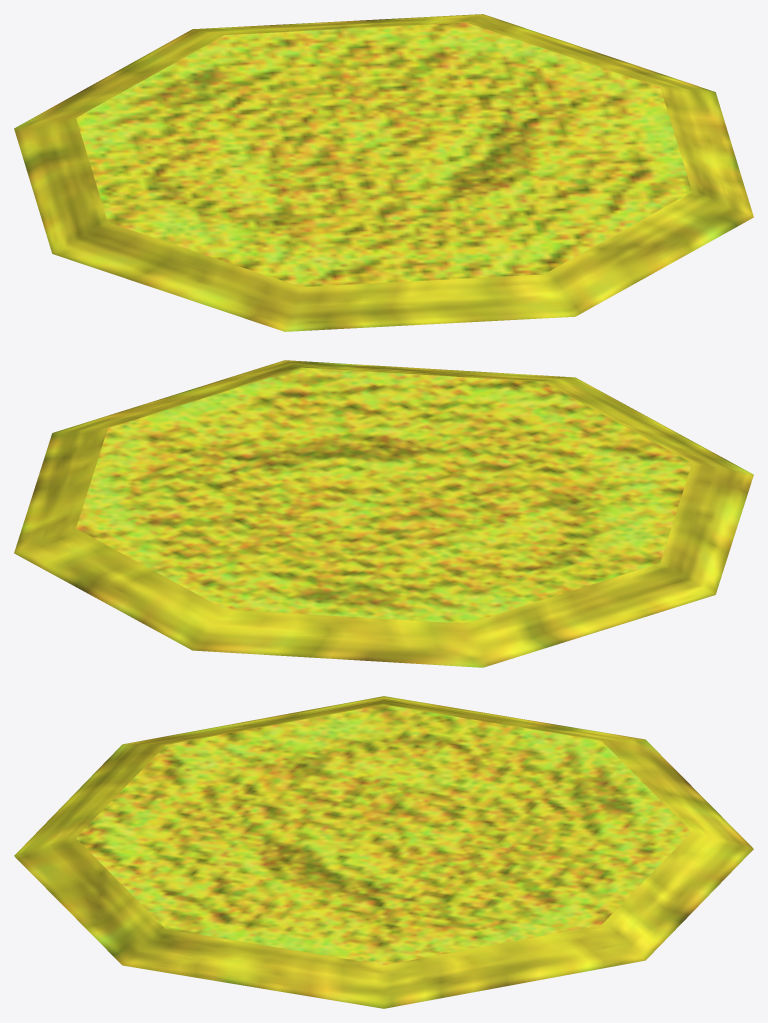
File: crop_tiny2.gltf
3 renders of one model, top to bottom at view 1: azimuth 30°, elevation 25°; view 2: azimuth 150°, elevation 25°; view 3: azimuth 270°, elevation 25°, orthographic. The views are drawn at different scales.
Visible parts, largest first — view 1: something; view 2: something; view 3: something.
Part boxes in pixels (x1,y1,x2,y2): something: [14, 14, 753, 331]; something: [14, 360, 753, 667]; something: [14, 696, 753, 1008].
Bounding box in the file's own units: 1.12 × 0.0401 × 1.12.
1 material, 1 textured.
